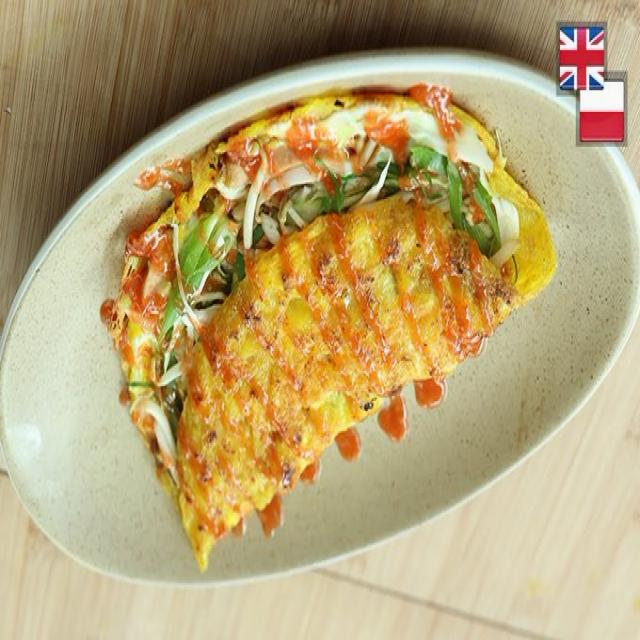telur dadar: (102, 82, 557, 568)
